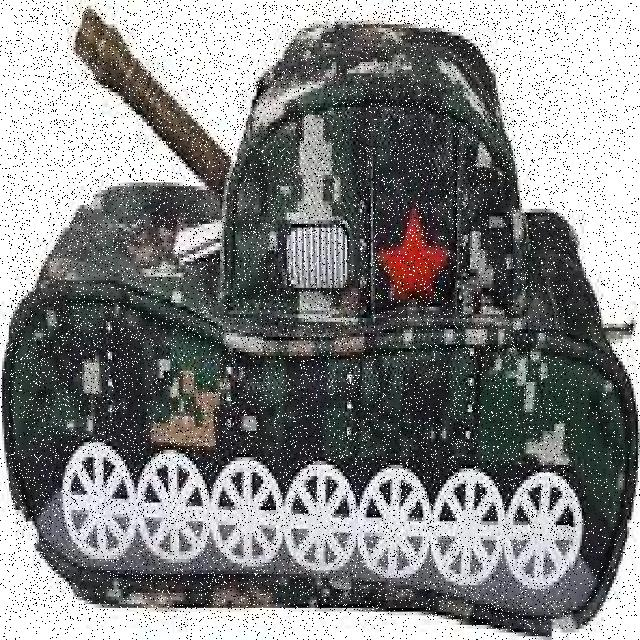MIL_MBT: (9, 5, 570, 621)
